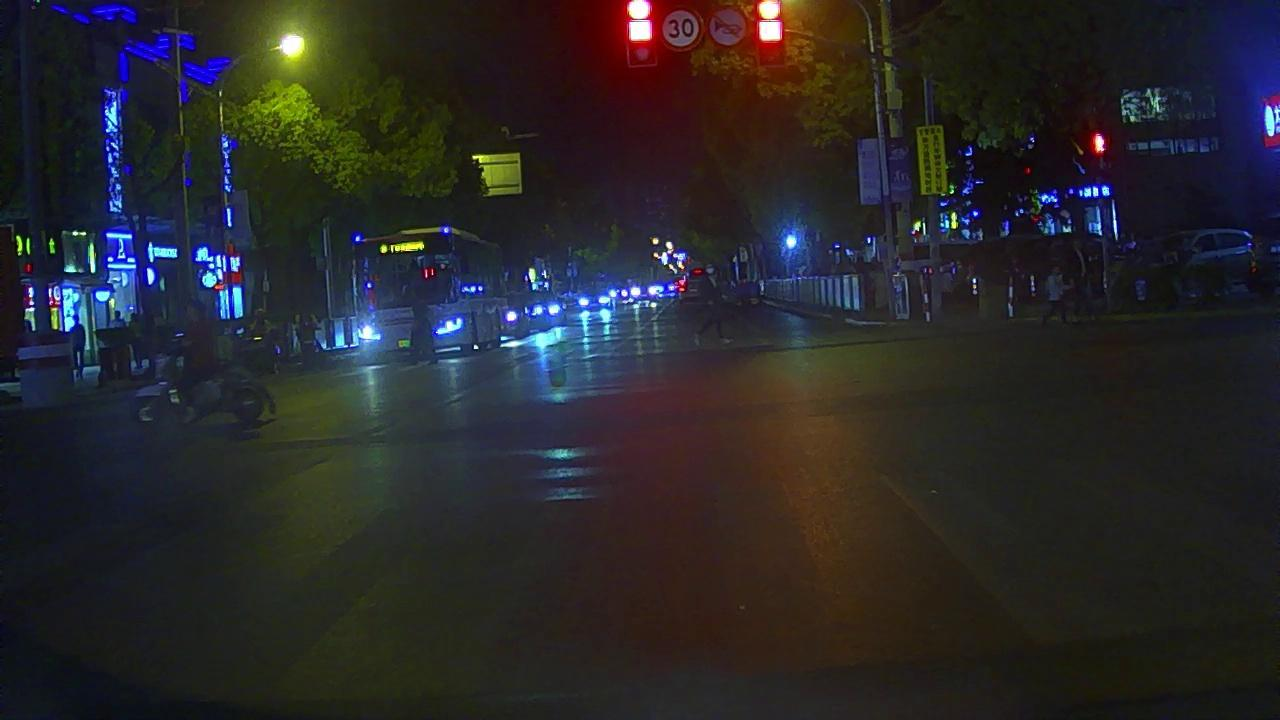traffic_light: (625, 1, 657, 64), (755, 1, 785, 63)
